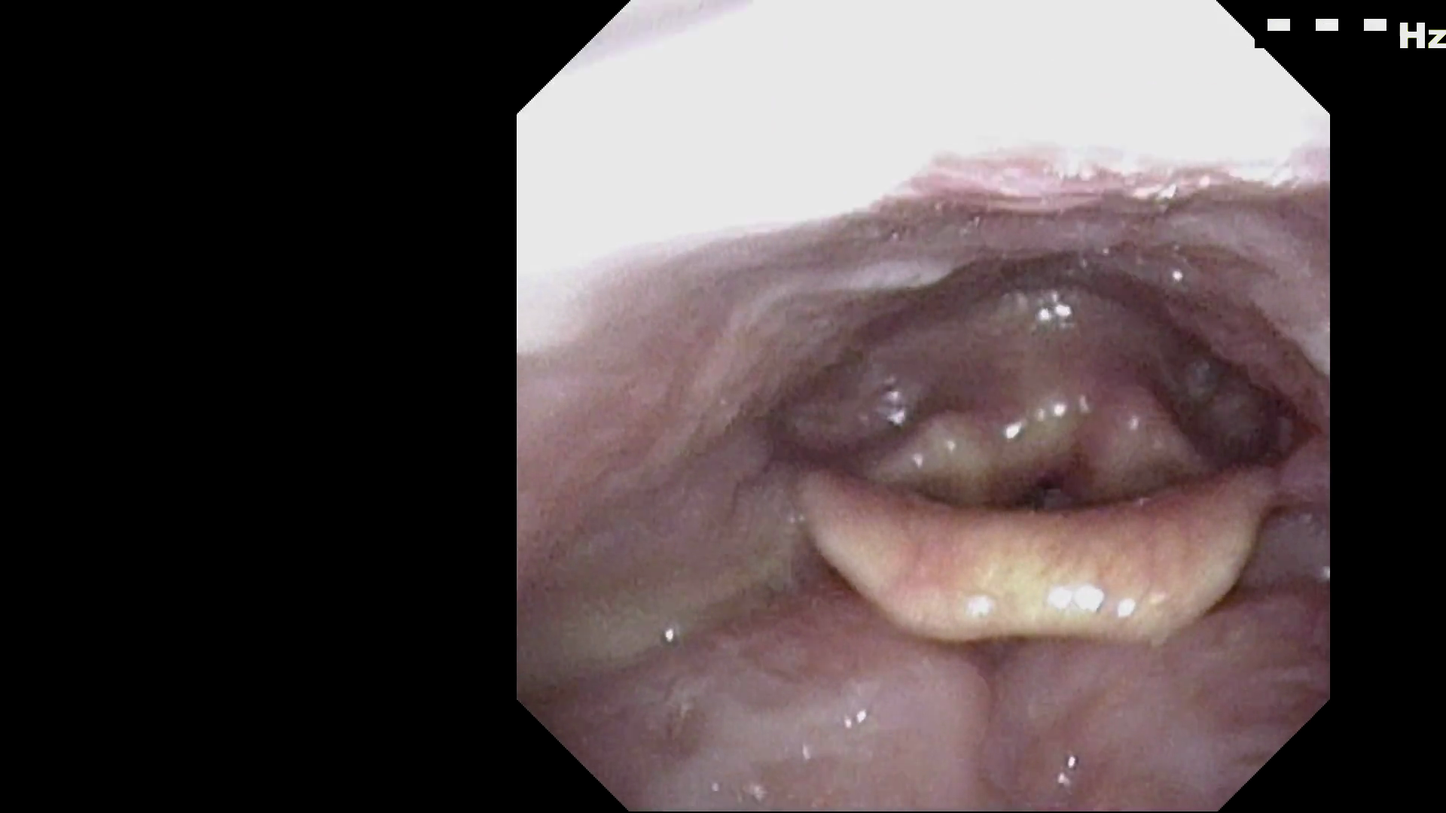epiglottis: (782, 441, 1307, 680)
trachea: (973, 399, 1120, 553)
